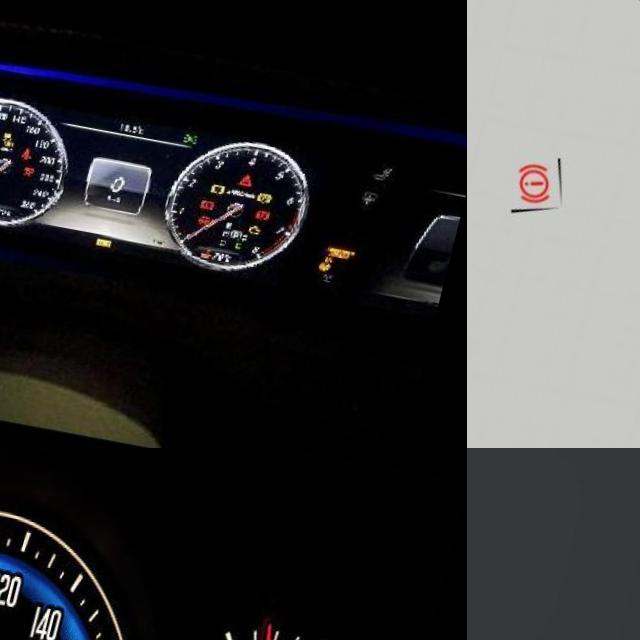Engine cooling system: (215, 233, 230, 244)
Low fuel level: (0, 196, 9, 207)
